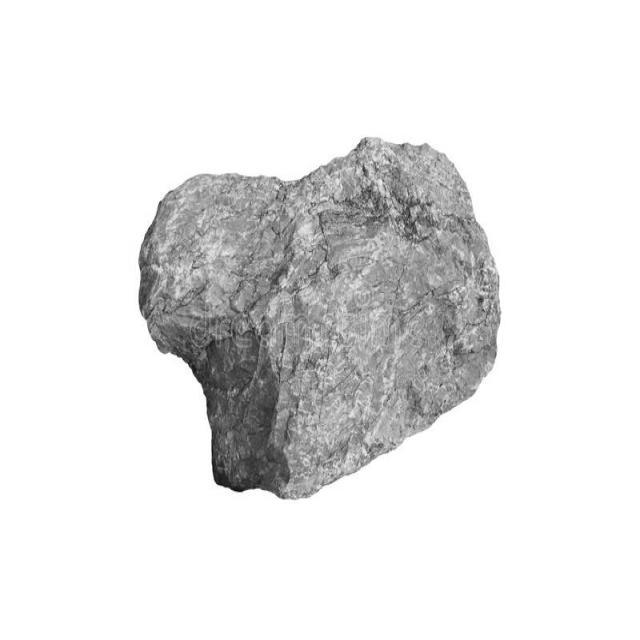Stone: (140, 139, 500, 498)
